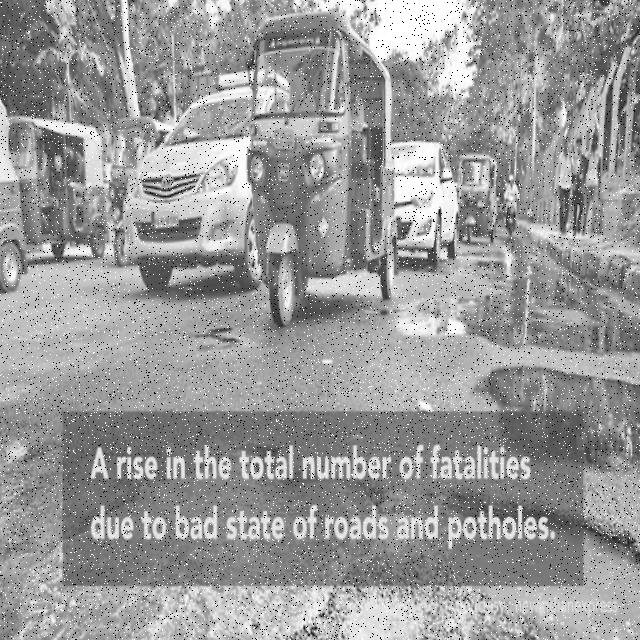pothole: (433, 503, 640, 640), (492, 370, 640, 472), (193, 330, 241, 356)
